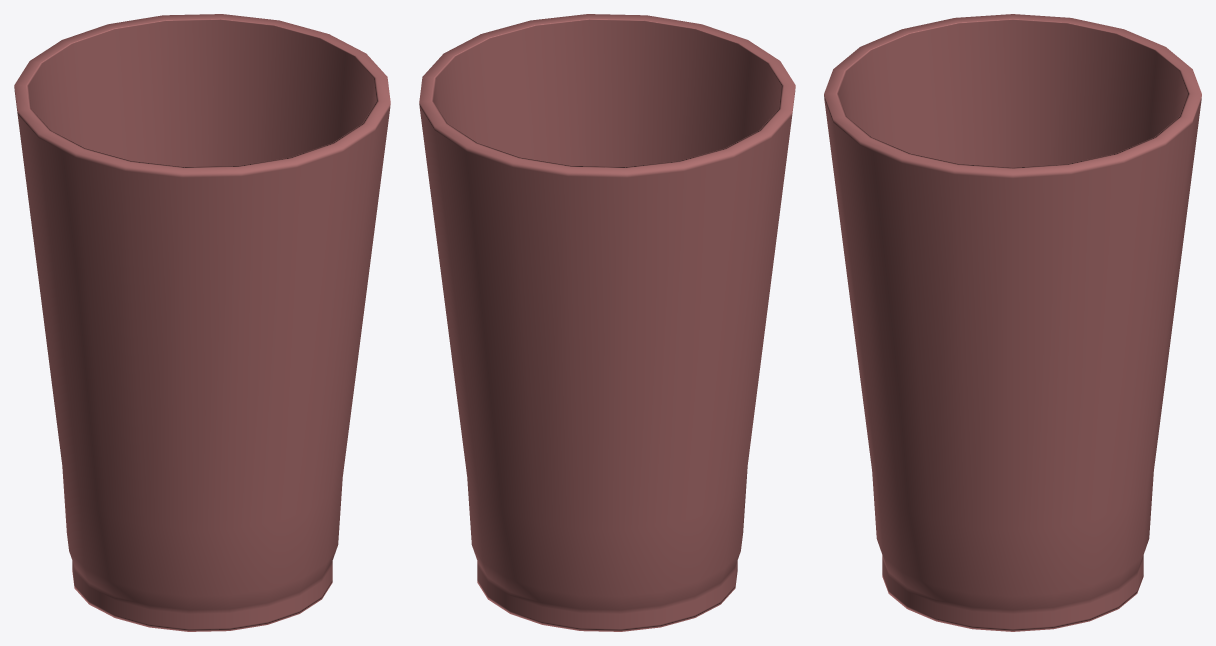
File: Cup.fbx
3 views of the same model, side by side, from view 1: azimuth 30°, elevation 25°; view 2: azimuth 150°, elevation 25°; view 3: azimuth 270°, elevation 25° (orthographic).
Visible parts, largest first — view 1: Cup8; view 2: Cup8; view 3: Cup8.
Boxes of the visible parts, <box> form: Cup8: <box>14,14,390,631</box>; Cup8: <box>419,14,795,631</box>; Cup8: <box>824,14,1201,631</box>.
Size of the model in its own units: 10 by 14.1 by 10.
